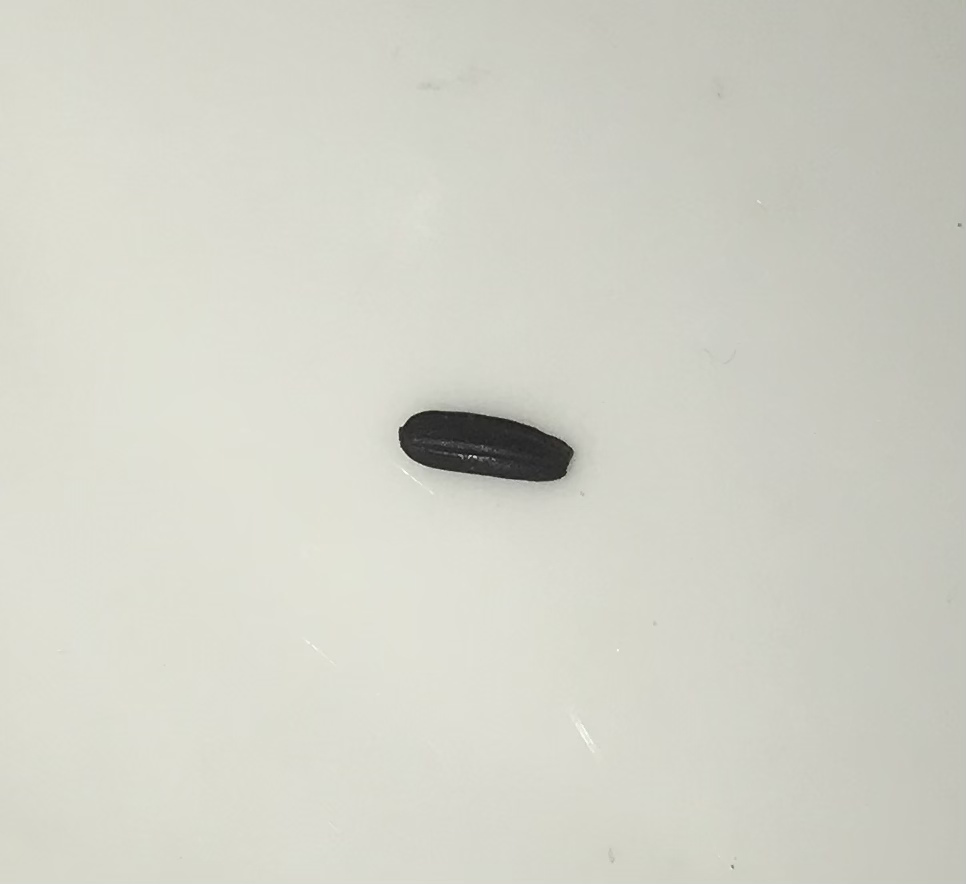Gao Nep Cam: (394, 400, 580, 498)
